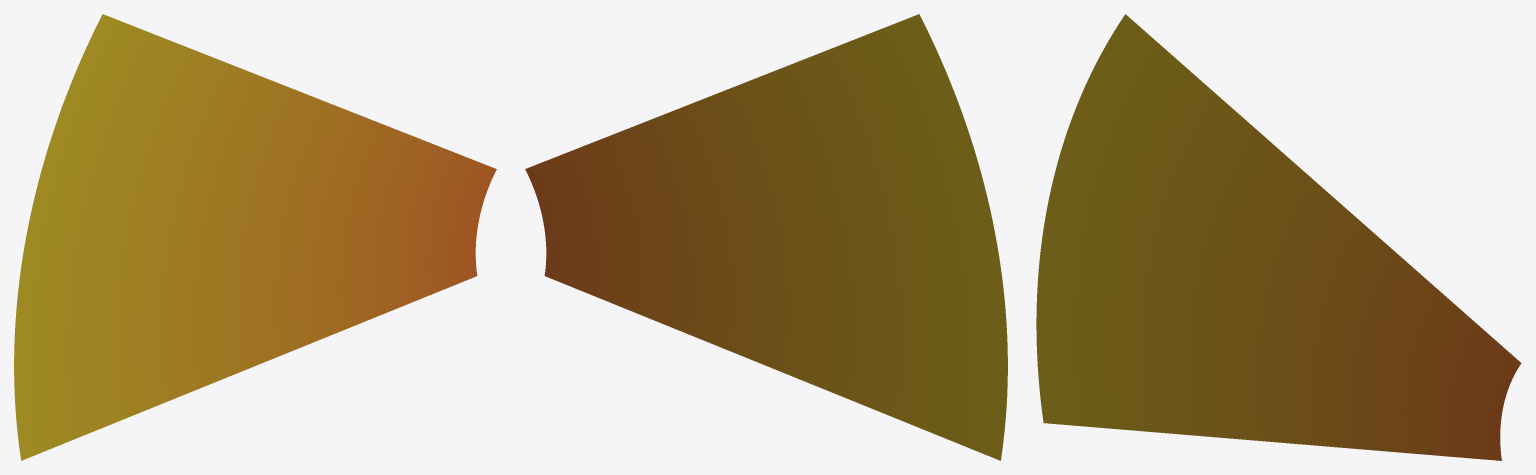
Rendered from HuTao_SpiritSoother_OneContinuousSoulFireSweep.fbx.
3 renders of one model, left to right at view 1: azimuth 30°, elevation 25°; view 2: azimuth 150°, elevation 25°; view 3: azimuth 330°, elevation 25°, orthographic.
Parts seen in each view (by area): view 1: PART_OneHolderCentredSoulFireBand; view 2: PART_OneHolderCentredSoulFireBand; view 3: PART_OneHolderCentredSoulFireBand.
Part boxes in pixels (bbox=[...]): PART_OneHolderCentredSoulFireBand: bbox=[14, 14, 496, 460]; PART_OneHolderCentredSoulFireBand: bbox=[525, 14, 1007, 460]; PART_OneHolderCentredSoulFireBand: bbox=[1036, 14, 1521, 460].
Size of the model in its own units: 845 by 714 by 0.000116.
